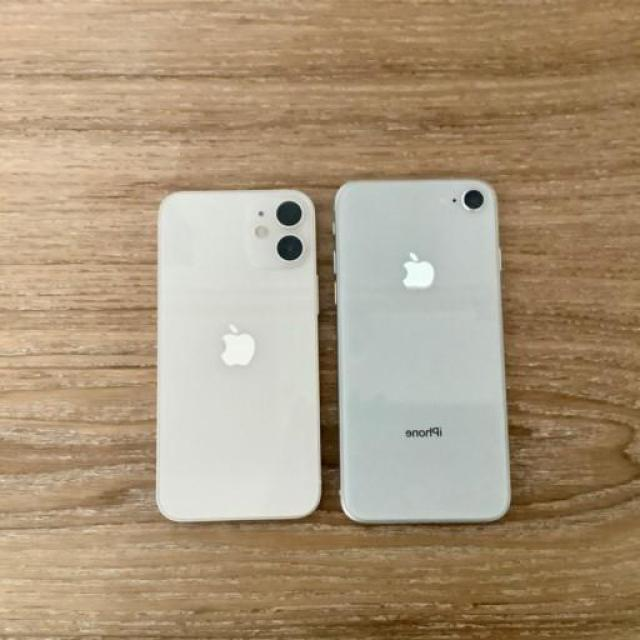mobile: (338, 182, 503, 524), (159, 191, 316, 524)
